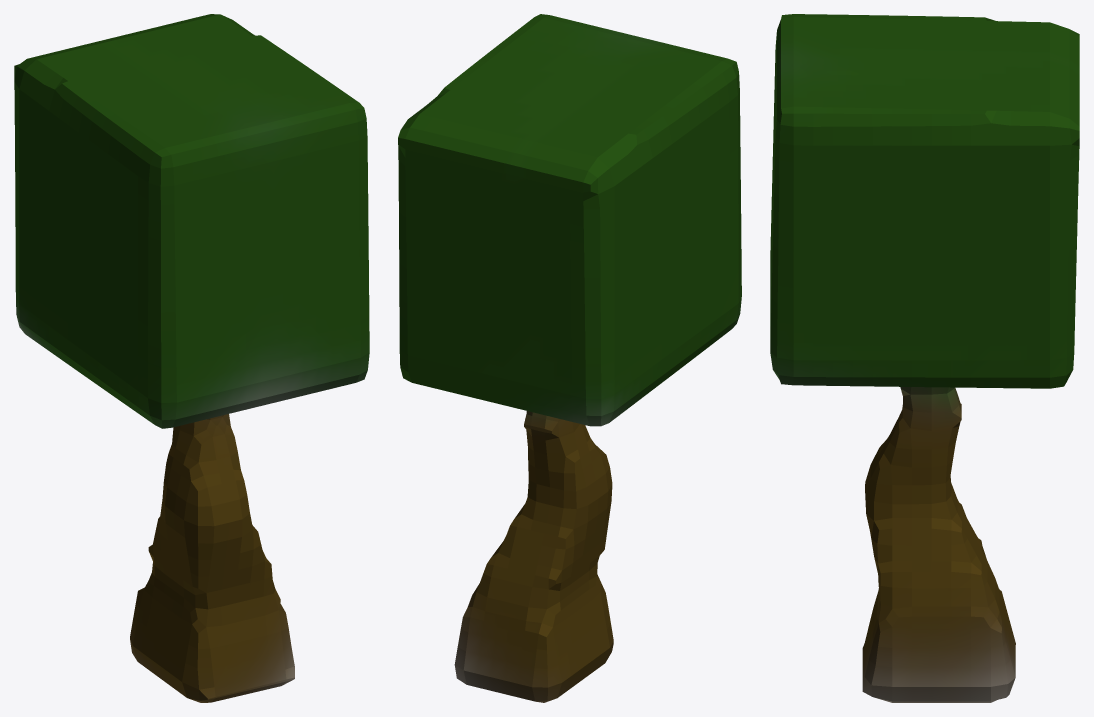
The model's file is Boxed_3.glb.
The picture shows the model from 3 angles, left to right: view 1: azimuth 30°, elevation 25°; view 2: azimuth 150°, elevation 25°; view 3: azimuth 270°, elevation 25°; orthographic projection. The views are drawn at different scales.
Parts seen in each view (by area): view 1: Boxed_3; view 2: Boxed_3; view 3: Boxed_3.
Boxes of the visible parts, box(x1,y1,x2,y2) form: Boxed_3: box(14, 14, 369, 702); Boxed_3: box(398, 14, 741, 702); Boxed_3: box(770, 14, 1079, 702).
Size of the model in its own units: 1.54 by 4.13 by 1.9.
